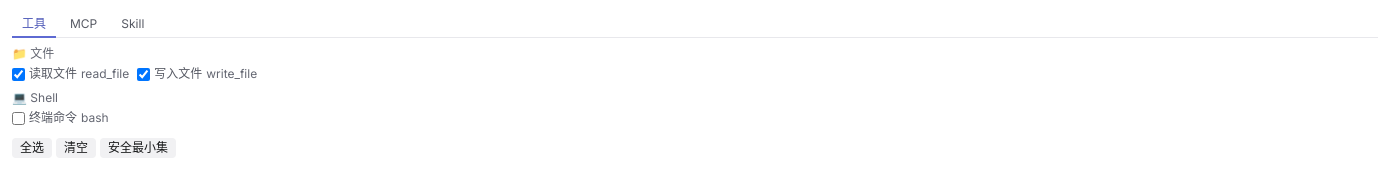
Test: CapabilityTabs — Tab 结构 › 点击 MCP Tab 切换到 MCP 面板
The width and height of the screenshot is (1378, 175).
Click the button "MCP". click: (84, 25)
box: [60,12,107,38]
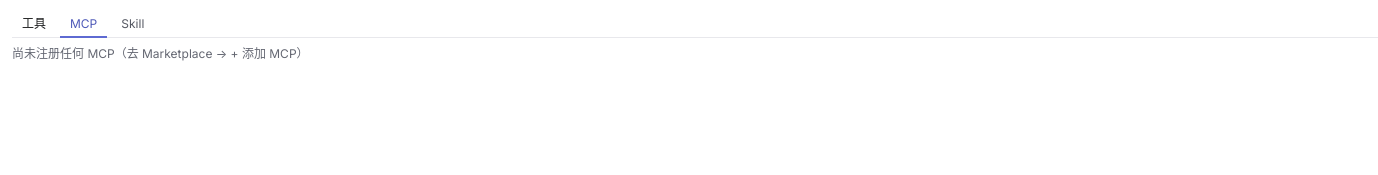
expect the text "尚未注册任何 MCP（去 Marketplace → + 添加 MCP）" is shown: met, box [12,46,308,61]
